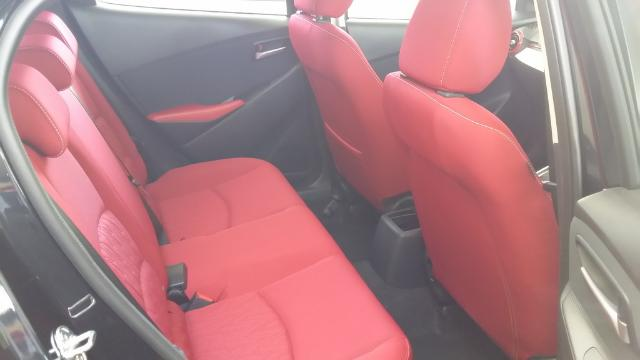Seatbelt: (0, 204, 142, 360), (128, 176, 170, 246)
